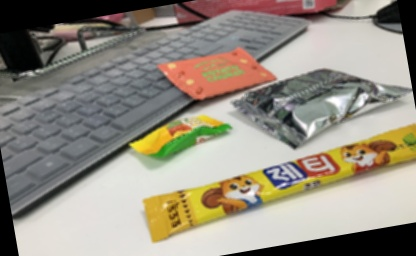br: (223, 53, 416, 164)
jeli: (123, 107, 237, 166)
jt: (135, 121, 416, 243)
pota: (153, 39, 281, 109)
